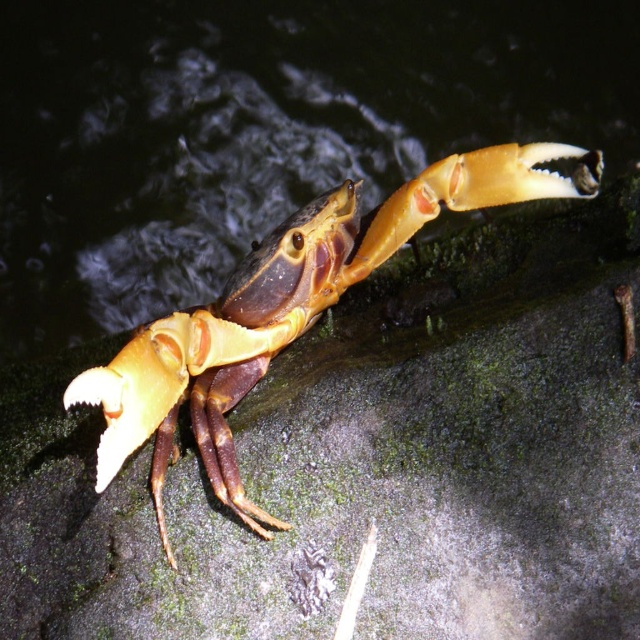Crab: (64, 139, 604, 570)
